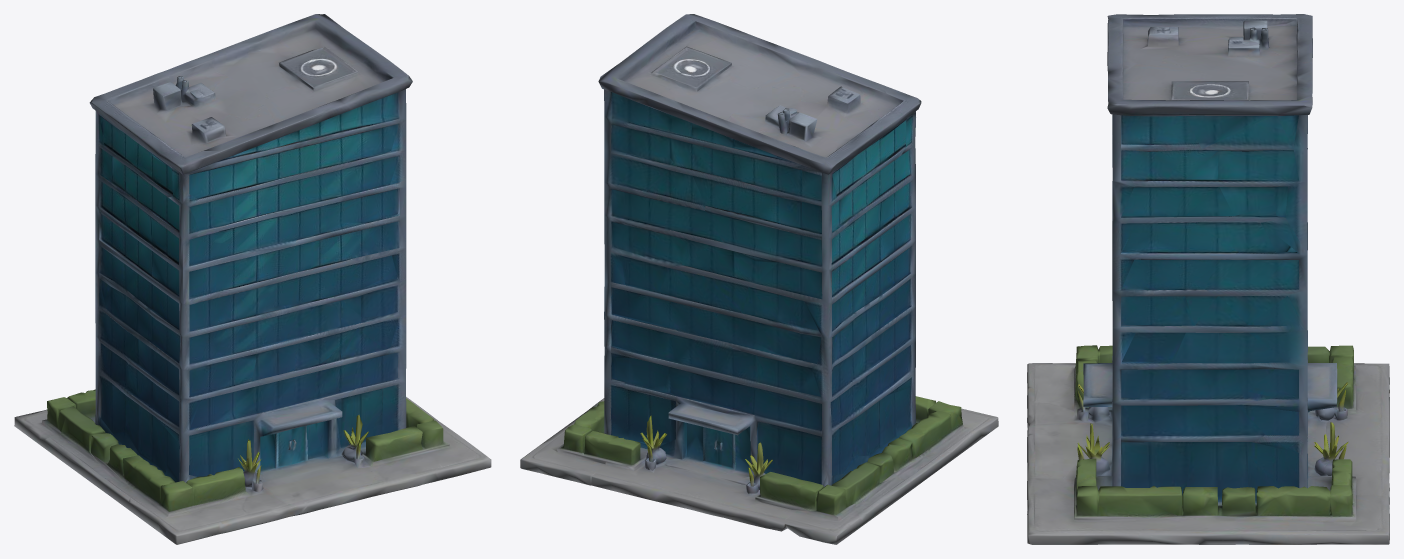
File: lagos_tower_a.glb
3 renders of one model, left to right at view 1: azimuth 30°, elevation 25°; view 2: azimuth 150°, elevation 25°; view 3: azimuth 270°, elevation 25°, orthographic. The views are drawn at different scales.
Parts seen in each view (by area): view 1: tripo_node_29a13ff1-2fa9-4185-9d5a-8f1e353f3aae; view 2: tripo_node_29a13ff1-2fa9-4185-9d5a-8f1e353f3aae; view 3: tripo_node_29a13ff1-2fa9-4185-9d5a-8f1e353f3aae.
Part boxes in pixels (x1=…): tripo_node_29a13ff1-2fa9-4185-9d5a-8f1e353f3aae: x1=14, y1=14, x2=491, y2=544; tripo_node_29a13ff1-2fa9-4185-9d5a-8f1e353f3aae: x1=520, y1=14, x2=998, y2=544; tripo_node_29a13ff1-2fa9-4185-9d5a-8f1e353f3aae: x1=1027, y1=14, x2=1389, y2=544.
Size of the model in its own units: 0.8828 by 1 by 0.7871.
Materials: 1 (1 with a texture image).
